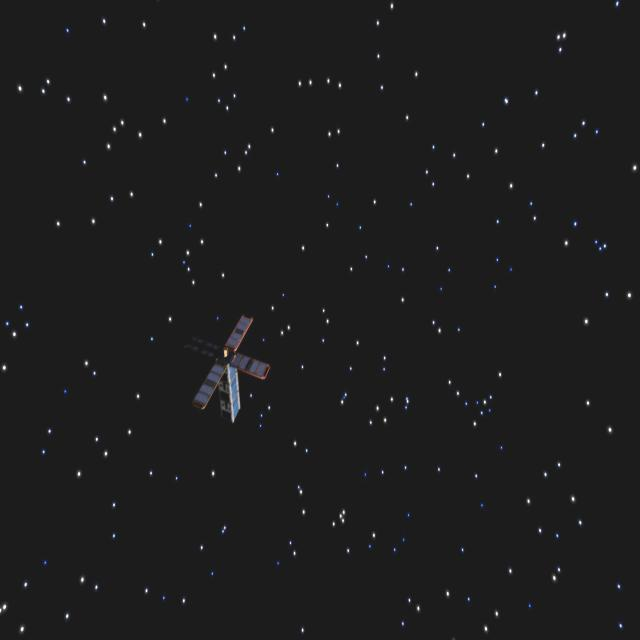medium_debris: (181, 310, 271, 433)
